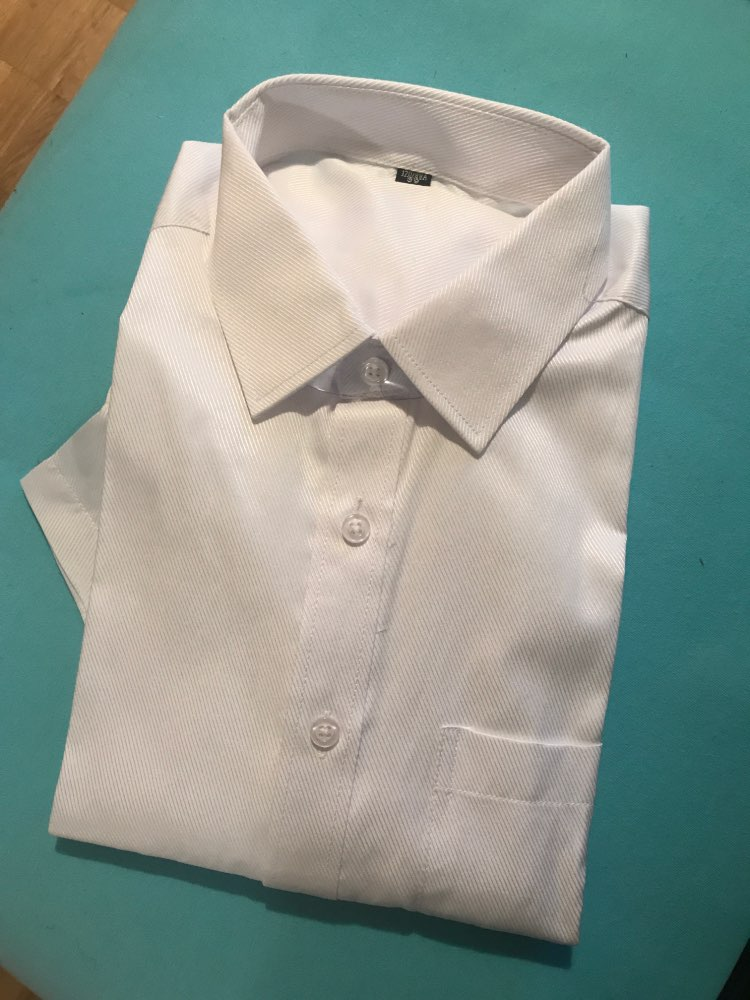shirts: (45, 64, 659, 933)
